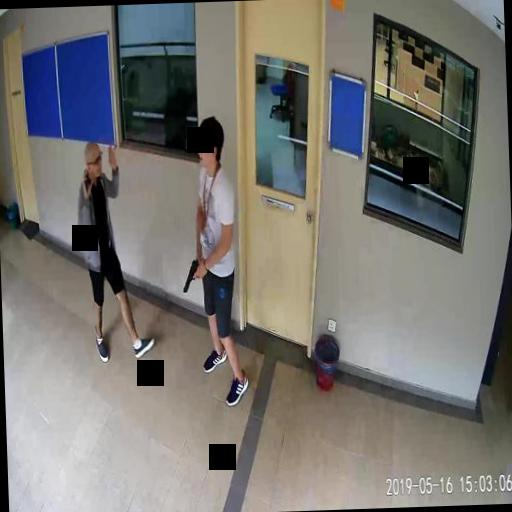Handgun: (181, 257, 198, 291)
